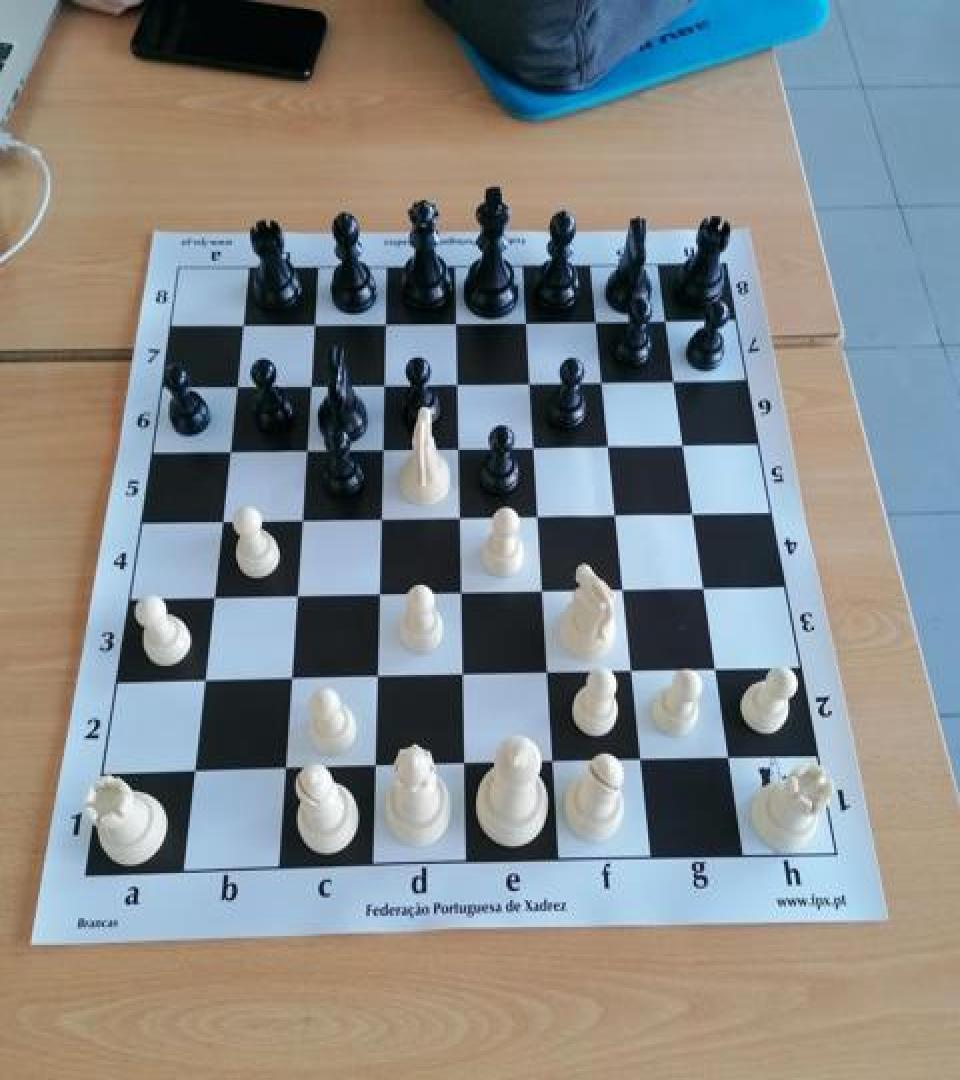xcorner: (278, 581, 310, 618), (361, 579, 393, 616), (358, 661, 390, 698), (444, 660, 476, 697), (688, 571, 720, 608), (700, 653, 732, 690), (713, 742, 745, 779), (226, 310, 258, 346), (220, 371, 252, 407), (212, 436, 244, 472), (205, 508, 237, 544), (196, 584, 228, 620), (187, 666, 219, 702), (177, 756, 209, 792), (297, 310, 329, 346), (293, 370, 325, 406), (288, 436, 320, 472), (284, 505, 316, 541), (273, 664, 305, 700), (267, 754, 299, 790), (367, 308, 399, 344), (366, 369, 398, 405), (364, 433, 396, 469), (363, 504, 395, 540), (356, 752, 388, 788), (438, 307, 470, 343), (439, 367, 471, 403), (440, 432, 472, 468), (441, 502, 473, 538), (443, 578, 475, 614), (446, 749, 478, 785), (508, 305, 540, 341), (512, 366, 544, 402), (516, 430, 548, 466), (520, 500, 552, 536), (524, 576, 556, 612), (529, 658, 561, 694), (535, 747, 567, 783), (579, 304, 611, 340), (585, 364, 617, 400), (591, 428, 623, 464), (598, 498, 630, 534), (606, 574, 638, 610), (615, 656, 647, 692), (624, 745, 656, 781), (649, 302, 681, 338), (657, 362, 689, 398), (667, 428, 699, 464), (677, 496, 709, 532)
